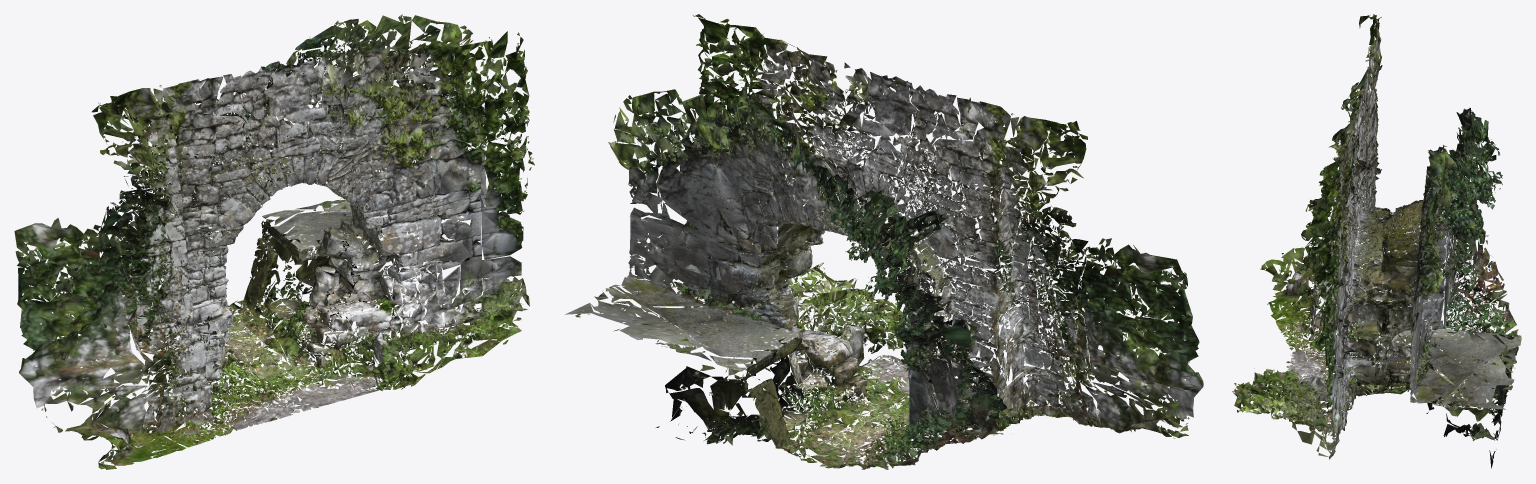
Rendered from gwShrine.glb.
3 renders of one model, left to right at view 1: azimuth 30°, elevation 25°; view 2: azimuth 150°, elevation 25°; view 3: azimuth 270°, elevation 25°, orthographic. The views are drawn at different scales.
Visible parts, largest first — view 1: Object_2, Object_13, Object_24, Object_31; view 2: Object_2, Object_13, Object_24, Object_31; view 3: Object_13, Object_2, Object_31, Object_24.
Boxes of the visible parts, x1,y1,x2,y2 form: Object_2: (14,15,534,463); Object_13: (18,14,534,465); Object_24: (27,20,533,469); Object_31: (15,15,531,457); Object_2: (565,19,1203,469); Object_13: (590,14,1188,469); Object_24: (614,17,1194,468); Object_31: (575,18,1189,468); Object_13: (1232,15,1518,468); Object_2: (1234,14,1521,450); Object_31: (1233,17,1516,456); Object_24: (1236,23,1508,440).
Size of the model in its own units: 106 by 65.99 by 55.31.
4 materials, 4 textured.
